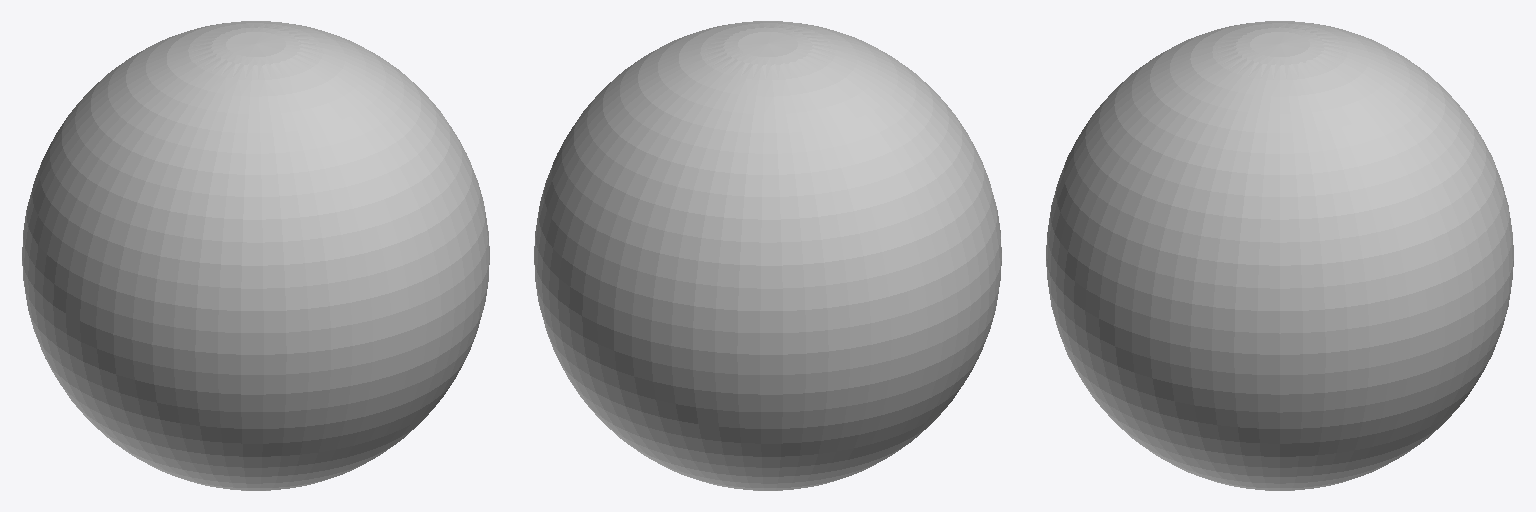
File: venus.obj
3 renders of one model, left to right at view 1: azimuth 30°, elevation 25°; view 2: azimuth 150°, elevation 25°; view 3: azimuth 270°, elevation 25°, orthographic.
Parts seen in each view (by area): view 1: Sphere_Sphere.001; view 2: Sphere_Sphere.001; view 3: Sphere_Sphere.001.
Boxes of the visible parts, x1,y1,x2,y2 form: Sphere_Sphere.001: [22, 21, 489, 490]; Sphere_Sphere.001: [534, 21, 1001, 490]; Sphere_Sphere.001: [1046, 21, 1513, 490].
Size of the model in its own units: 11.97 by 11.98 by 11.97.